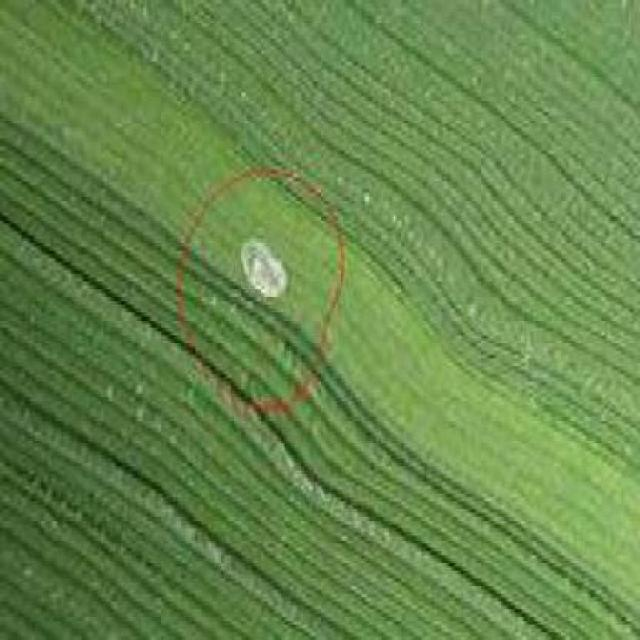leaf-folder: (234, 226, 294, 314)
